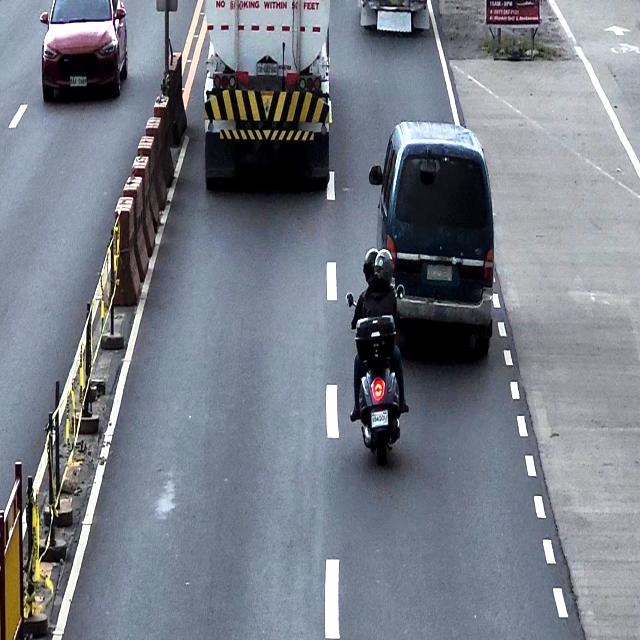Car: (368, 119, 496, 358), (39, 0, 127, 101)
Jeep: (359, 0, 430, 36)
License-Plate: (424, 262, 454, 283), (368, 408, 389, 426), (256, 62, 278, 78), (68, 75, 89, 89)
Motorcycle: (346, 290, 404, 465)
Truck: (203, 0, 332, 189)
